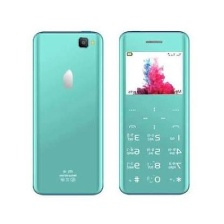phone: (115, 26, 195, 198), (29, 27, 105, 198)
